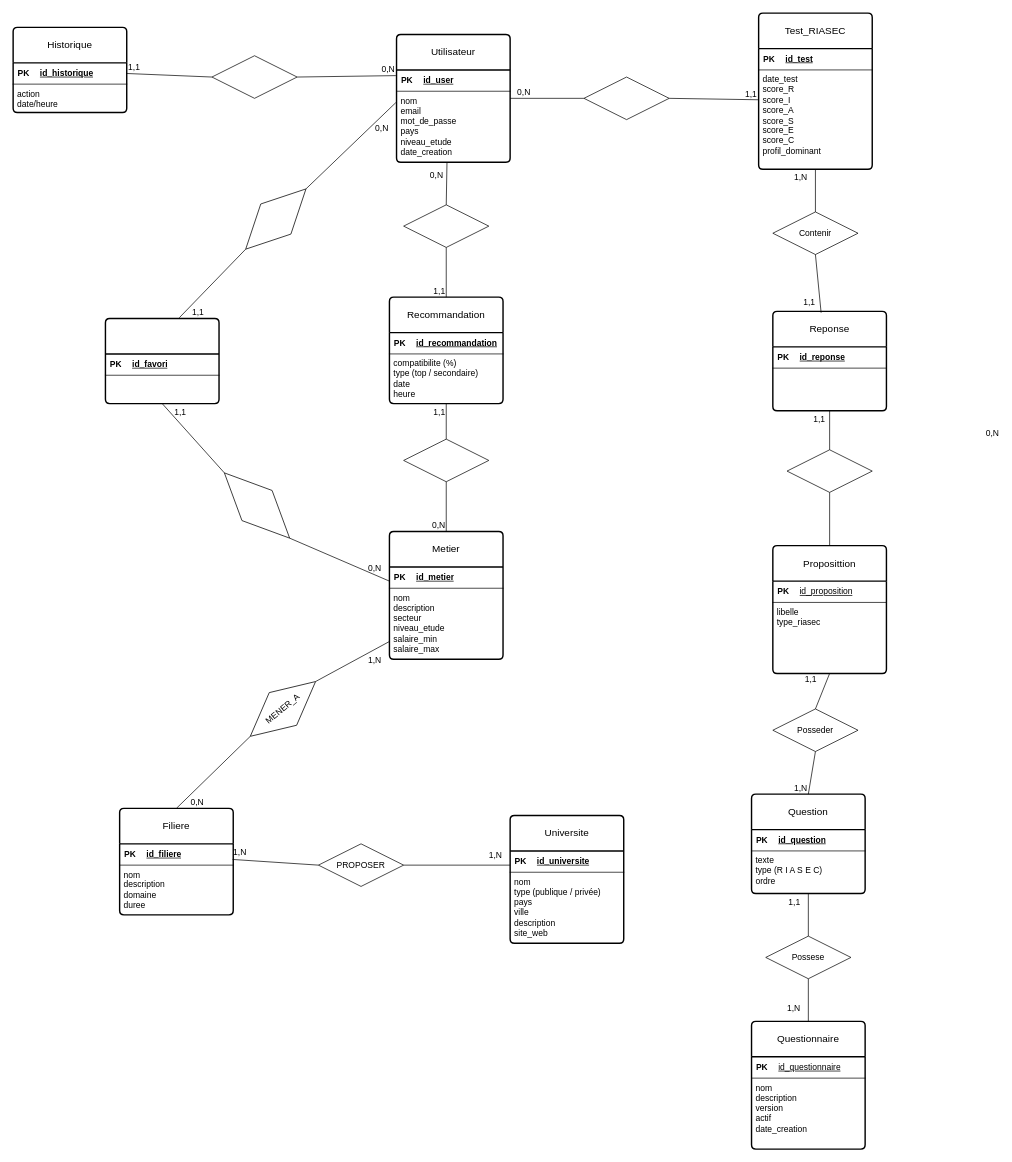
This 1012x1162 diagram has some shape labels left out. The shapes that lost their labels are listed below. From the top down, each one's box as (x1, y1, x2, y2) in pixels, then its label:
(211, 55, 297, 98): GENERER
(583, 76, 669, 120): PASSER
(230, 173, 321, 264): AJOUTER
(403, 204, 489, 247): RECEVOIR
(104, 317, 219, 404): Favoris
(403, 438, 489, 482): CONCERNER
(786, 449, 872, 492): Choisir
(208, 457, 305, 553): CORRESPONDRE
